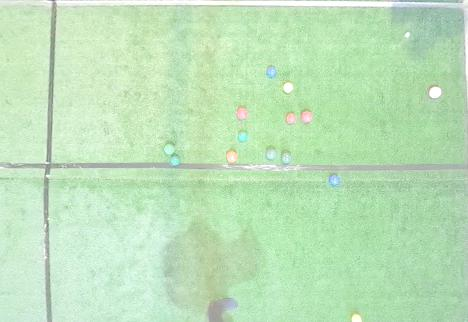blue: (329, 174, 340, 186), (266, 66, 277, 78)
green: (265, 147, 277, 160), (280, 152, 292, 163), (164, 143, 176, 154), (238, 131, 248, 143), (170, 155, 180, 165)
red: (224, 148, 240, 165), (236, 107, 248, 120), (429, 87, 442, 98), (301, 111, 312, 122), (286, 113, 296, 125)
vline: (1, 0, 57, 321), (459, 0, 467, 322)
white: (405, 32, 410, 38)
yellow: (283, 83, 293, 93), (349, 314, 362, 321)
